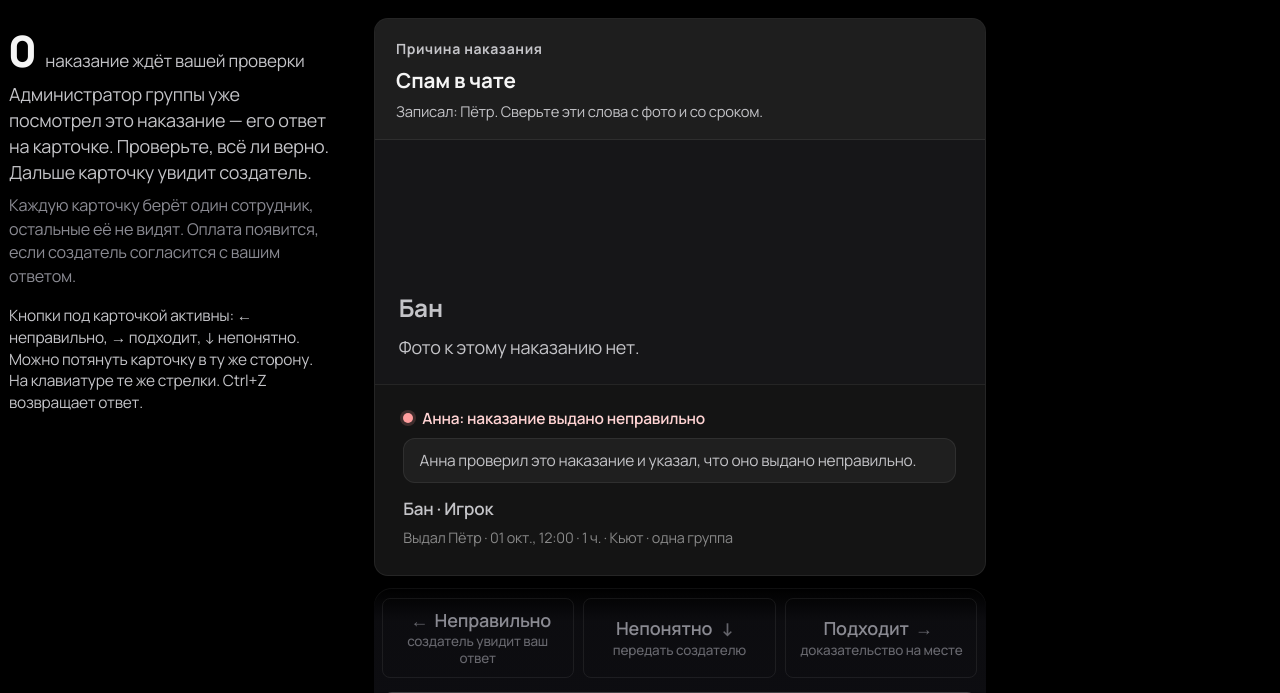
StaffDesk › sends a clear answer without asking to lift
Expected: the heading "Бан · Игрок" is shown, [403,497,493,520]
Click the button "Подходит → доказательство на месте".
click(881, 638)  # box [785,598,977,678]
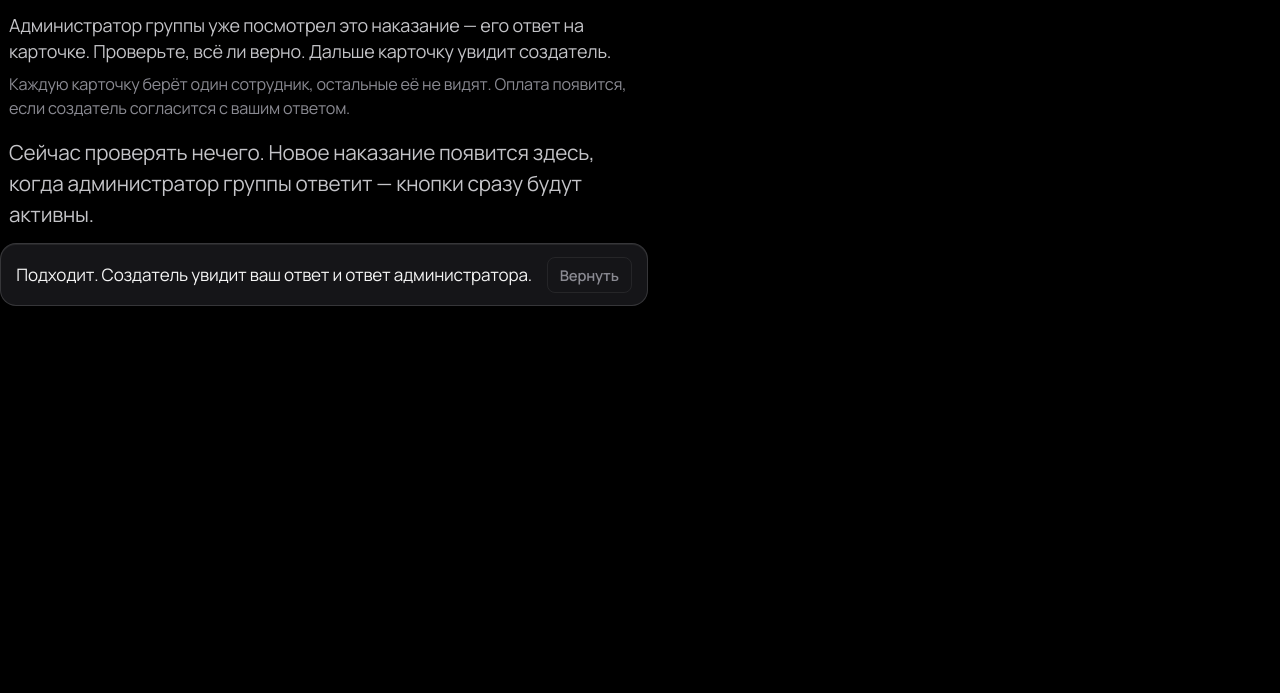
Result: the text "Сейчас проверять нечего" is shown at [9,138,594,228]
Result: the button "Вернуть" is shown at [547,257,632,293]
